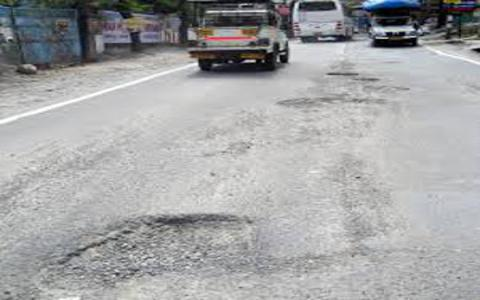patchy roads: (99, 171, 369, 277), (257, 77, 432, 162)
